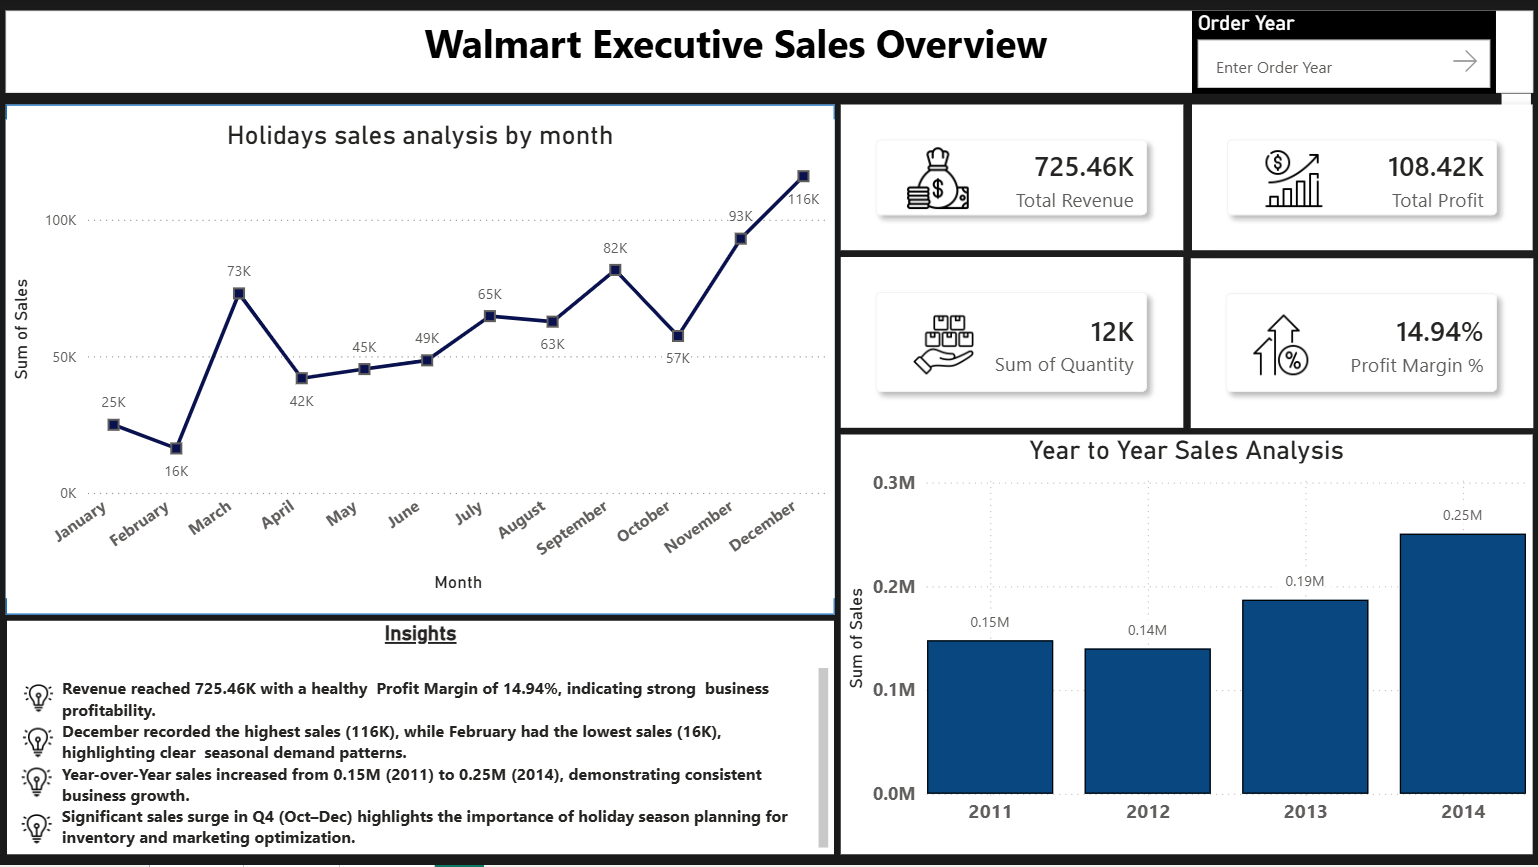

The page's visual inventory and layout, read from the dashboard file:
{"tool":"powerbi","page":{"name":"Page 1","canvas":[1280,720],"ordinal":0},"visuals":[{"type":"textbox","box":[7,11.1,1266.1,68.2],"z":1000},{"type":"cardVisual","fields":{"Data":["walmart.Total Revenue"]},"box":[699.8,89,283.8,121],"z":2000},{"type":"cardVisual","fields":{"Data":["walmart.Total Profit"]},"box":[990.6,89,282.4,121],"z":3000},{"type":"cardVisual","fields":{"Data":["walmart.Profit Margin %"]},"box":[989.2,217,283.8,140.5],"z":4000},{"type":"cardVisual","fields":{"Data":["Sum(walmart.Quantity)"]},"box":[699.8,215.7,283.8,141.9],"z":5000},{"type":"lineClusteredColumnComboChart","title":"Year to Year Sales Analysis","fields":{"Category":["walmart.Order Date.Variation.Date Hierarchy.Year"],"Y":["Sum(walmart.Sales)"]},"box":[699.8,363.1,573.2,347.8],"z":6000},{"type":"shape","box":[7,89,687.3,423],"z":7000},{"type":"lineChart","title":" Holidays sales analysis by month","fields":{"Y":["Sum(walmart.Sales)"],"Category":["walmart.Order Date.Variation.Date Hierarchy.Month"]},"box":[7,101.6,687.3,396.5],"z":8000},{"type":"image","box":[754.1,97.4,51.5,105.7],"z":9000},{"type":"image","box":[1040.7,125.2,69.6,50.1],"z":10000},{"type":"image","box":[1031,263,66.8,50.1],"z":11000},{"type":"image","box":[727.7,263,114.1,50.1],"z":12000},{"type":"textbox","title":"Insights","box":[8.3,517.6,685.9,193.4],"z":13000},{"type":"image","box":[7,569,54.3,25],"z":14000},{"type":"image","box":[19.5,665,26.4,48.7],"z":15000},{"type":"image","box":[19.5,628.9,26.4,44.5],"z":16000},{"type":"image","box":[20.9,589.9,26.4,57],"z":17000}]}

Visuals, with their boxes in screenshot pixels (x1, y1, x2, y2), scaled from the page's 1280x720 canvas onto the 1538x867 screenshot:
textbox: bbox=[8, 13, 1530, 95]
cardVisual - walmart.Total Revenue: bbox=[841, 107, 1182, 253]
cardVisual - walmart.Total Profit: bbox=[1190, 107, 1530, 253]
cardVisual - walmart.Profit Margin %: bbox=[1189, 261, 1530, 430]
cardVisual - Sum(walmart.Quantity): bbox=[841, 260, 1182, 431]
"Year to Year Sales Analysis" lineClusteredColumnComboChart: bbox=[841, 437, 1530, 856]
shape: bbox=[8, 107, 834, 617]
" Holidays sales analysis by month" lineChart: bbox=[8, 122, 834, 600]
image: bbox=[906, 117, 968, 245]
image: bbox=[1250, 151, 1334, 211]
image: bbox=[1239, 317, 1319, 377]
image: bbox=[874, 317, 1011, 377]
"Insights" textbox: bbox=[10, 623, 834, 856]
image: bbox=[8, 685, 74, 715]
image: bbox=[23, 801, 55, 859]
image: bbox=[23, 757, 55, 811]
image: bbox=[25, 710, 57, 779]
